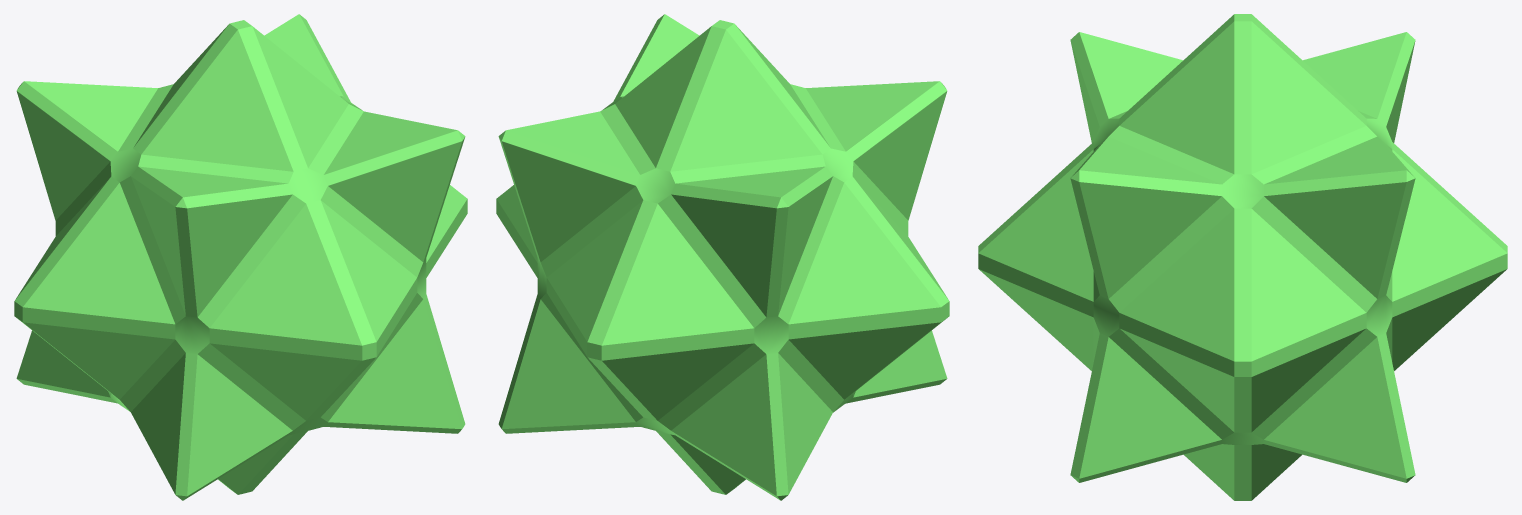
File: st3_starobj1.fbx
3 renders of one model, left to right at view 1: azimuth 30°, elevation 25°; view 2: azimuth 150°, elevation 25°; view 3: azimuth 270°, elevation 25°, orthographic. The views are drawn at different scales.
Visible parts, largest first — view 1: Cube_002; view 2: Cube_002; view 3: Cube_002.
Part boxes in pixels (x1=…): Cube_002: x1=14, y1=14, x2=467, y2=500; Cube_002: x1=496, y1=14, x2=949, y2=500; Cube_002: x1=978, y1=14, x2=1507, y2=500.
Bounding box in the file's own units: 141 × 141 × 141.
